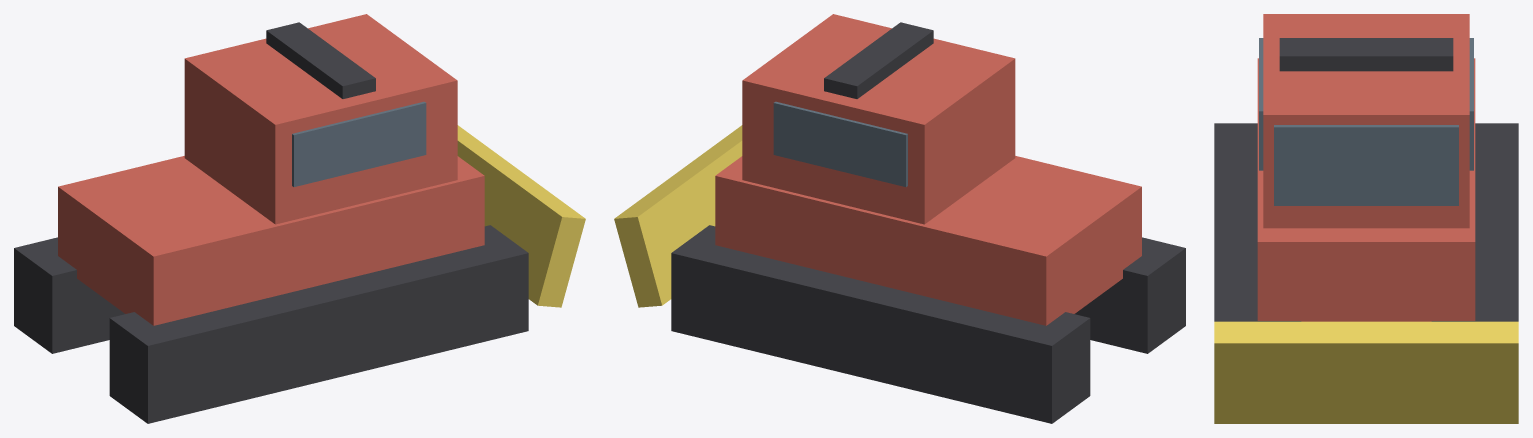
Rendered from Snowcat.glb.
3 renders of one model, left to right at view 1: azimuth 30°, elevation 25°; view 2: azimuth 150°, elevation 25°; view 3: azimuth 270°, elevation 25°, orthographic. The views are drawn at different scales.
Parts seen in each view (by area): view 1: Hull, Track, Cab, Blade, Track.001, Side window, Light bar; view 2: Hull, Track.001, Cab, Blade, Track, Side window.001, Light bar; view 3: Blade, Cab, Hull, Windscreen, Track, Track.001, Light bar, Side window, Side window.001.
Part boxes in pixels (x1,y1,x2,y2): Hull: [58, 156, 484, 325]; Track: [109, 225, 528, 423]; Cab: [184, 14, 457, 224]; Blade: [457, 125, 585, 307]; Track.001: [14, 237, 124, 353]; Side window: [292, 101, 426, 186]; Light bar: [266, 22, 375, 98]; Hull: [715, 156, 1141, 325]; Track.001: [671, 225, 1090, 423]; Cab: [742, 14, 1015, 224]; Blade: [614, 125, 742, 307]; Track: [1075, 237, 1185, 353]; Side window.001: [773, 101, 907, 186]; Light bar: [824, 22, 933, 98]; Blade: [1214, 321, 1518, 423]; Cab: [1263, 14, 1469, 228]; Hull: [1257, 58, 1475, 321]; Windscreen: [1274, 125, 1458, 205]; Track: [1214, 123, 1301, 321]; Track.001: [1431, 123, 1518, 321]; Light bar: [1279, 38, 1453, 71]; Side window: [1259, 38, 1263, 170]; Side window.001: [1469, 38, 1473, 170].
Size of the model in its own units: 5.29 by 3.03 by 2.8.
